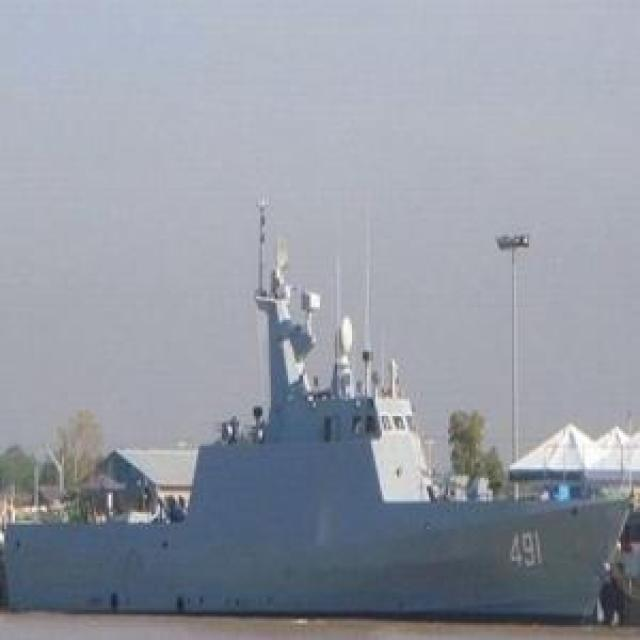navalvessels: (0, 208, 613, 622)
